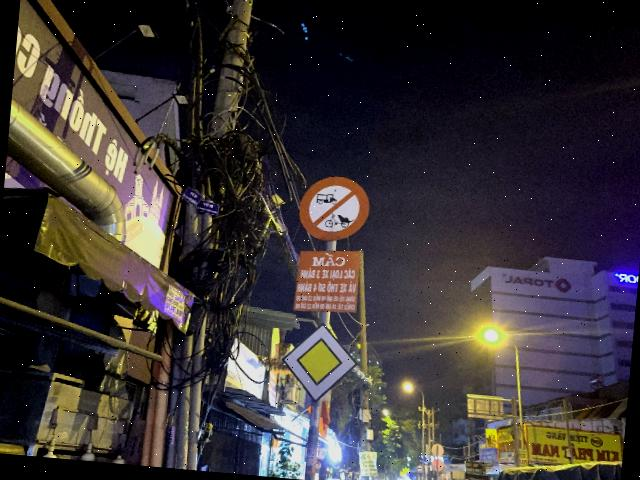bat-dau-duong-uu-tien: (276, 318, 361, 406)
cam-xe-3-banh-xe-tho-so-4-banh: (296, 172, 372, 244)
